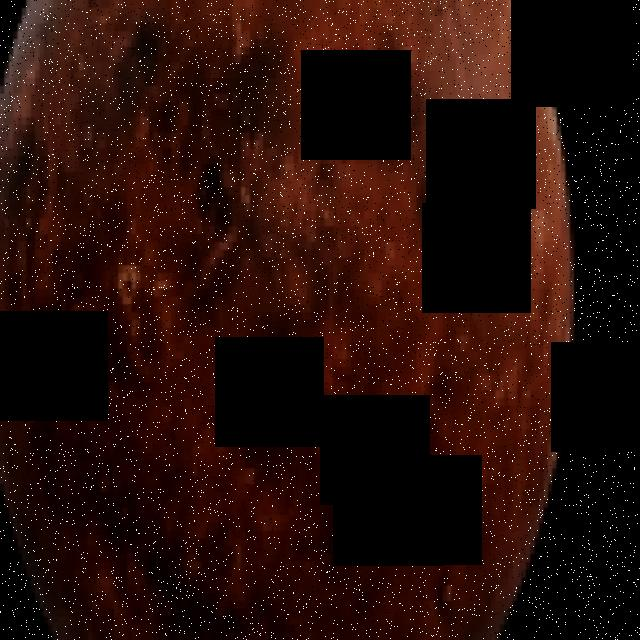Venus: (0, 0, 583, 640)
